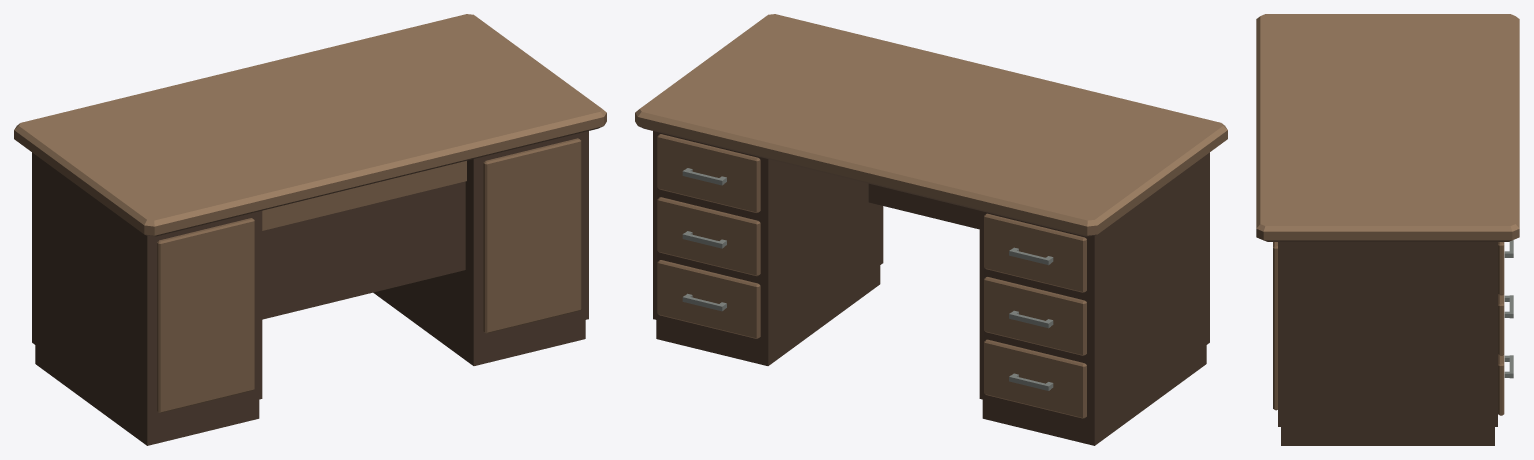
File: Bell_FranksDesk.fbx
The picture shows the model from 3 angles, left to right: view 1: azimuth 30°, elevation 25°; view 2: azimuth 150°, elevation 25°; view 3: azimuth 270°, elevation 25°; orthographic projection. The views are drawn at different scales.
Parts seen in each view (by area): view 1: Bell_FranksDesk; view 2: Bell_FranksDesk; view 3: Bell_FranksDesk.
Part boxes in pixels (box(x1,y1,x2,y2)): Bell_FranksDesk: box(14, 14, 606, 445); Bell_FranksDesk: box(635, 14, 1227, 445); Bell_FranksDesk: box(1256, 14, 1519, 445).
Bounding box in the file's own units: 1.55 × 0.75 × 0.8.
